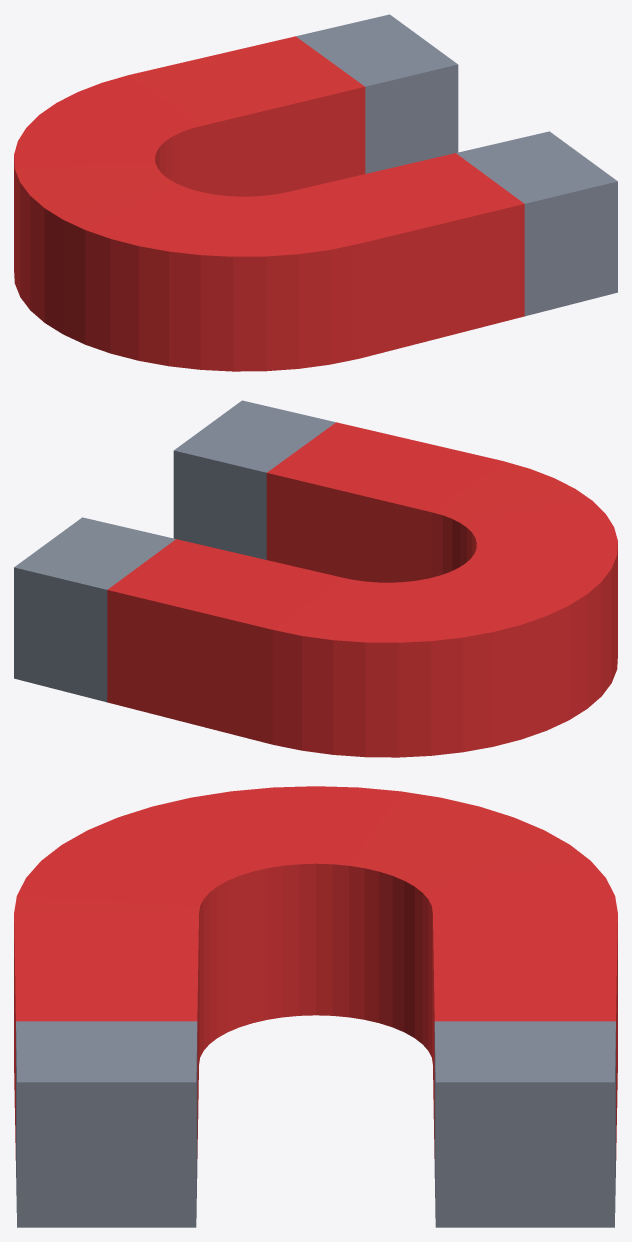
The model's file is powerup-magnet-repulse2.fbx.
3 renders of one model, top to bottom at view 1: azimuth 30°, elevation 25°; view 2: azimuth 150°, elevation 25°; view 3: azimuth 270°, elevation 25°, orthographic. The views are drawn at different scales.
Parts seen in each view (by area): view 1: magnet-red; view 2: magnet-red; view 3: magnet-red.
Boxes of the visible parts, bbox=[...] form: magnet-red: bbox=[14, 14, 617, 371]; magnet-red: bbox=[14, 400, 617, 757]; magnet-red: bbox=[14, 786, 617, 1227].
Bounding box in the file's own units: 33.71 × 8.12 × 29.31.
